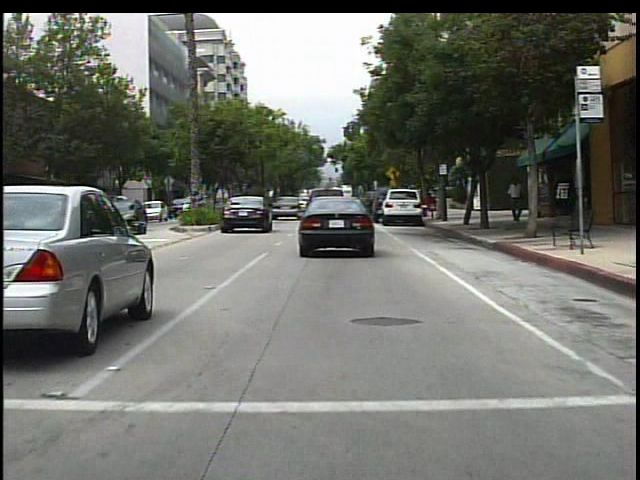person: (505, 178, 527, 226)
